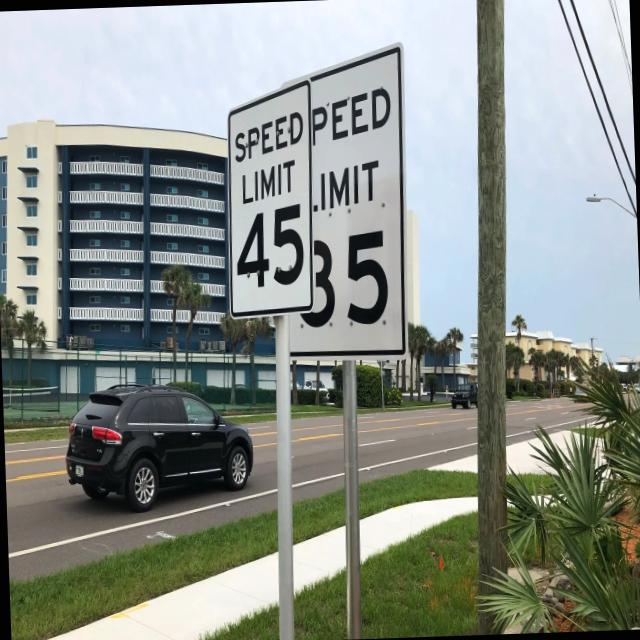Speed Limit Signs: (272, 44, 416, 366), (220, 75, 319, 322)
